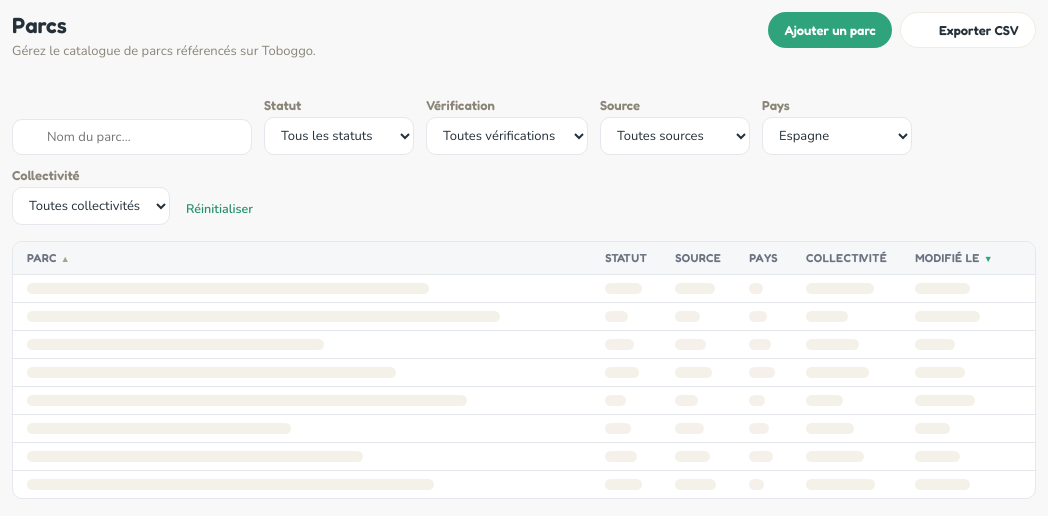
Test: Parks — Admin-UI-8D (colonnes Pays/Collectivité, filtre Pays, secondaire sans « Non renseigné ») › Réinitialiser efface le pays actif
The image size is (1048, 516).
Click the button "Réinitialiser" at (220, 208), box [182,192,257,225]
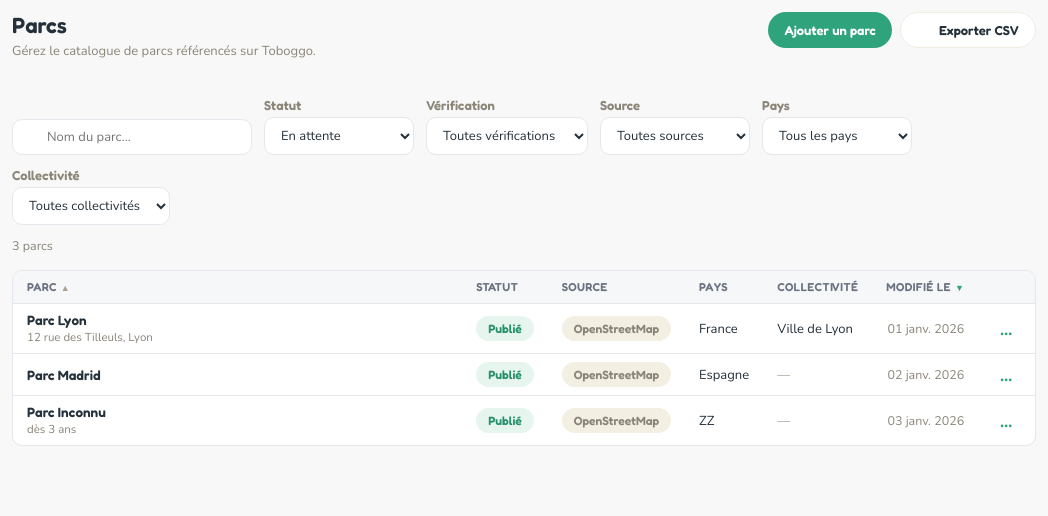
Expected: the dropdown labelled "Pays" shows "Tous les pays", [762,117,912,155]
